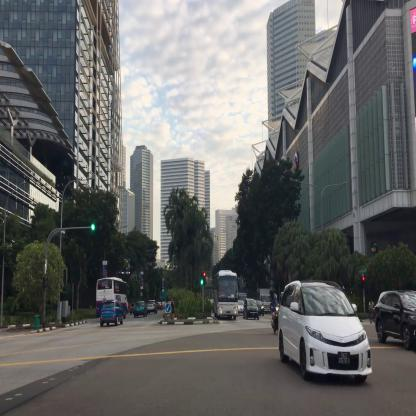green_traffic_light: (91, 224, 101, 230), (201, 272, 203, 285)
